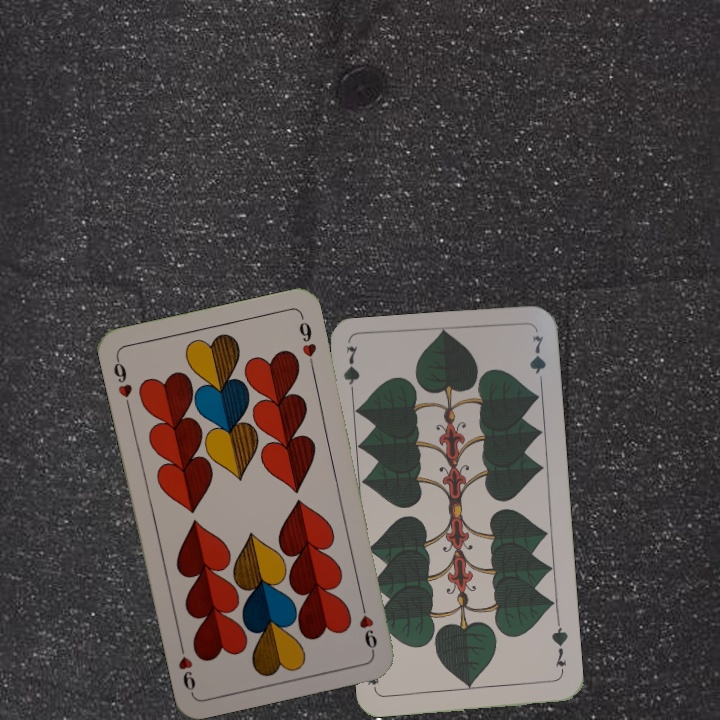G7: (339, 342, 362, 402), (548, 618, 570, 677)
H9: (109, 353, 135, 411), (355, 596, 380, 654)
